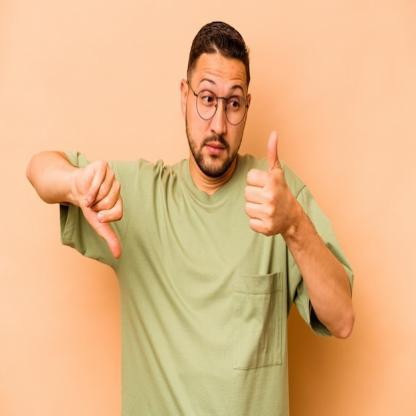thumb_down: (74, 156, 129, 261)
thumb_up: (244, 125, 296, 237)
